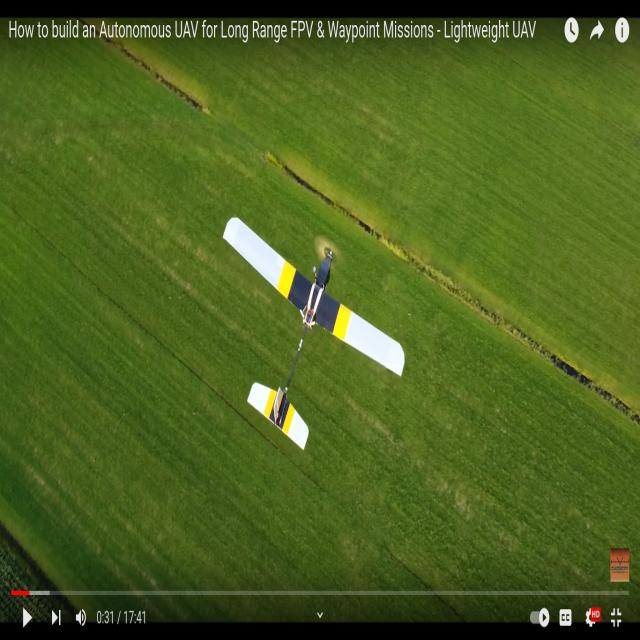drones: (220, 203, 410, 472)
